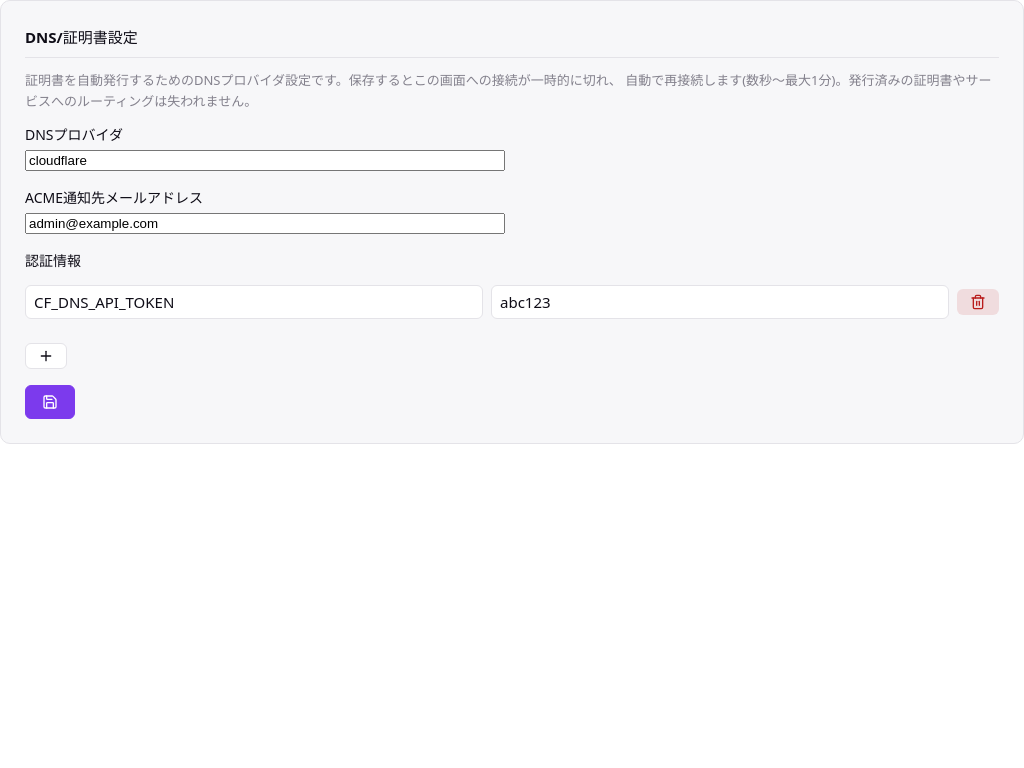
Scenario: DnsConfigSection › バリデーションエラー時はTraefik再作成を待たずにフィールドエラーを表示する
Check: the field labelled "DNSプロバイダ" is shown, box [25,150,505,171]
What coordinates should you click on to do the following:
click the button named "DNS設定を保存"
I would click on:
 (50, 402)
Its box is [25,385,75,419].
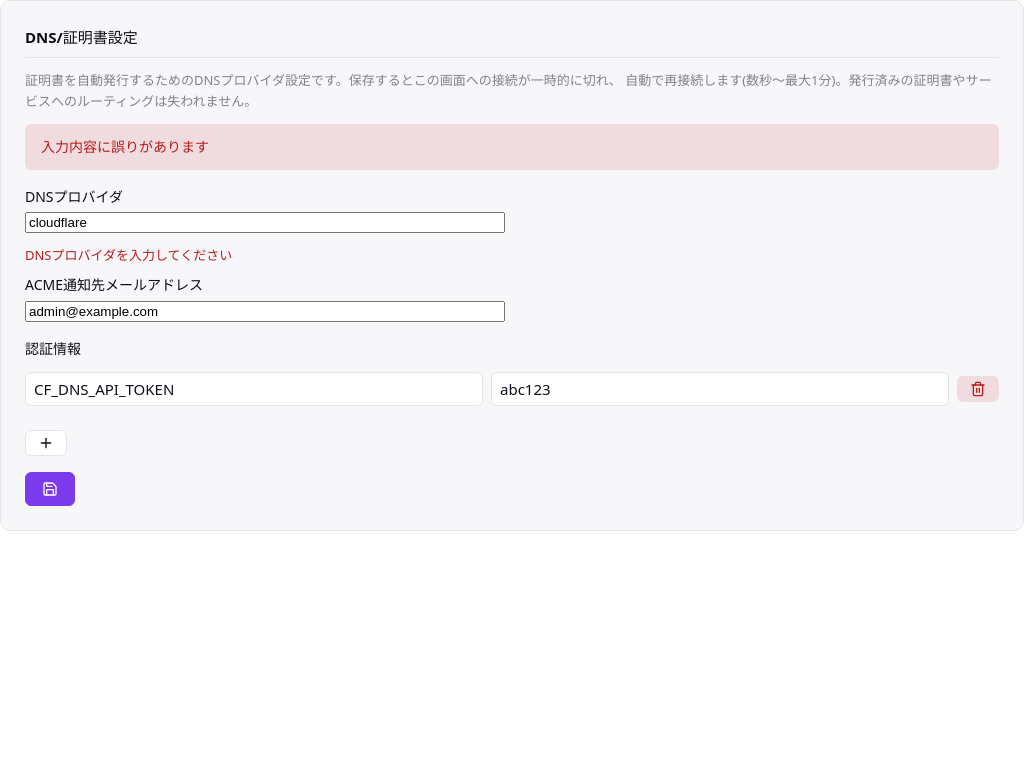
Check: the text "DNSプロバイダを入力してください" is shown, box [25,246,232,264]
